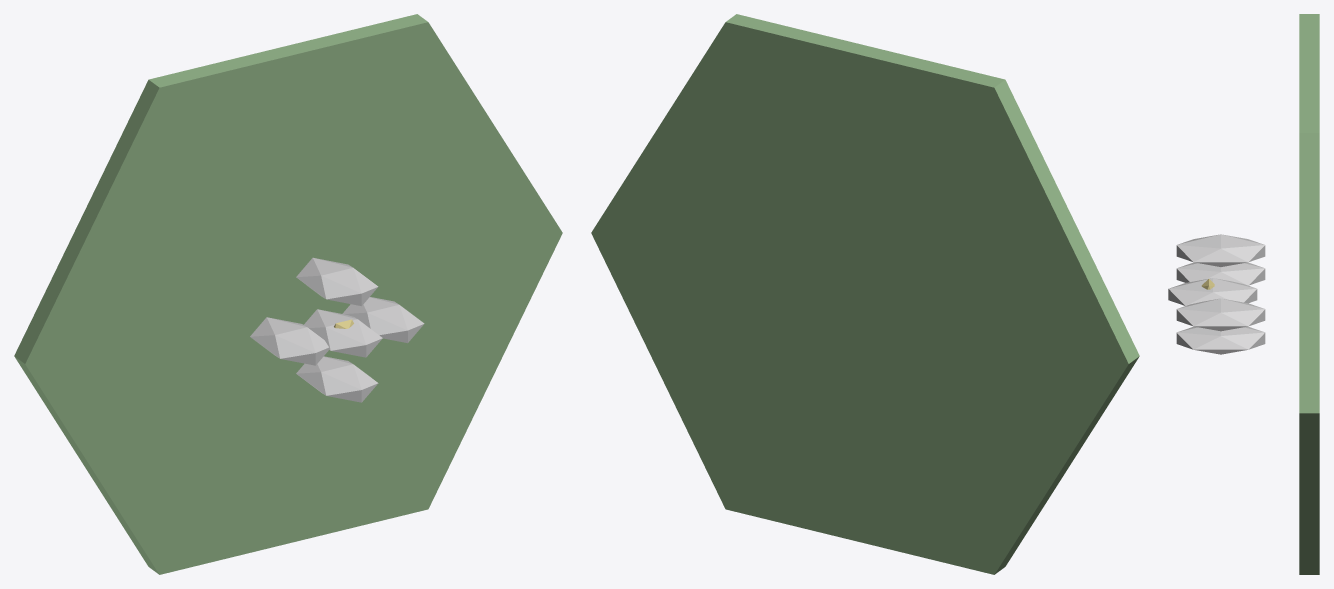
Rendered from water_lily.glb.
3 renders of one model, left to right at view 1: azimuth 30°, elevation 25°; view 2: azimuth 150°, elevation 25°; view 3: azimuth 270°, elevation 25°, orthographic. The views are drawn at different scales.
Visible parts, largest first — view 1: world; view 2: world; view 3: world.
Part boxes in pixels (bbox=[...]): world: bbox=[14, 14, 562, 574]; world: bbox=[591, 14, 1139, 574]; world: bbox=[1168, 14, 1319, 574].
Bounding box in the file's own units: 1.4 × 1.21 × 0.3756.
